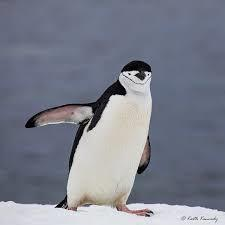chinstrap: (14, 42, 173, 225)
